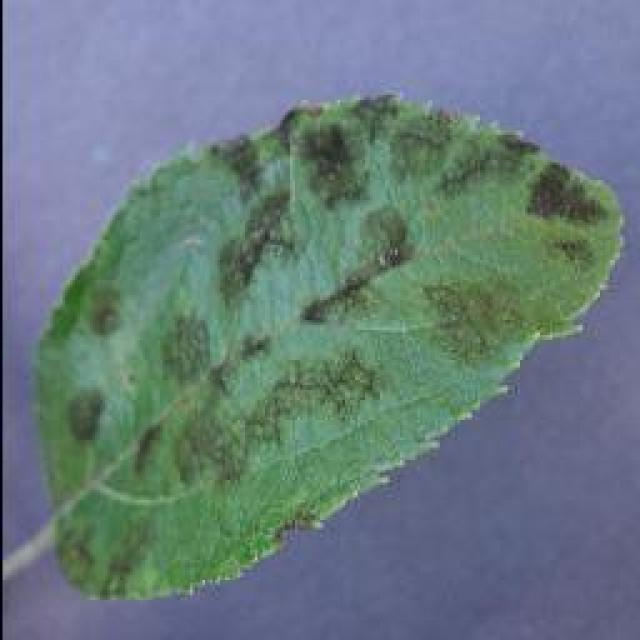apple scab disease: (25, 88, 625, 602)
